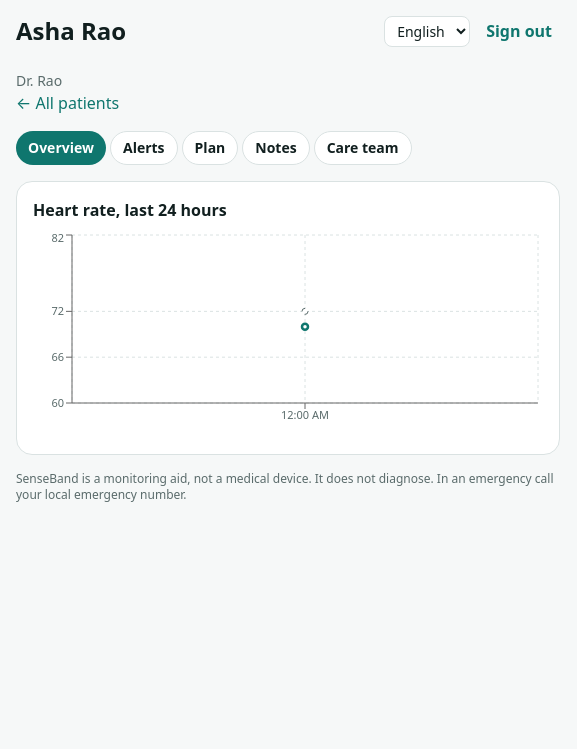
Scenario: cloud screens › doctor edits the plan: blocked above the stored limit, saved as the next version otherwise
Click the tab "Plan": click(210, 148) [182,131,238,165]
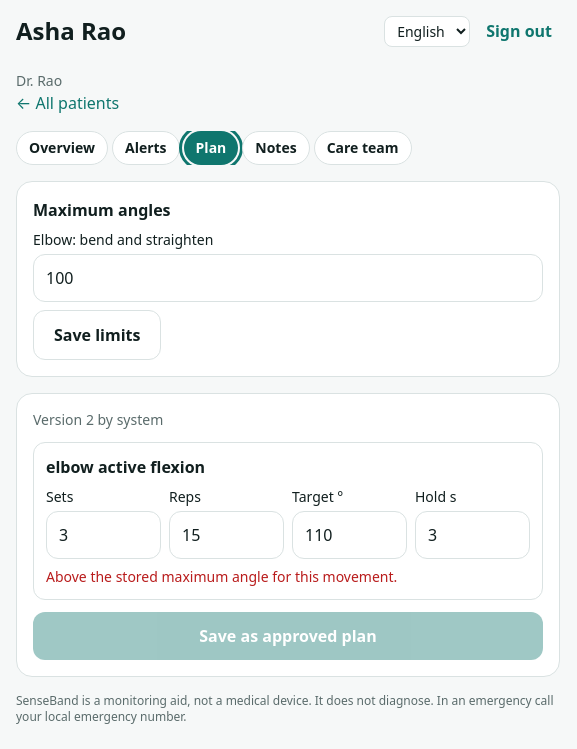
Expected: the field labelled "Target °" holds "110"
Expected: the text "Above the stored maximum angle for this movement." is shown, [46,567,397,586]
Expected: the button "Save as approved plan" is disabled, [33,612,543,660]
Replace the text in the field labelled "Target °" with "95": (350, 535) [292,511,407,559]
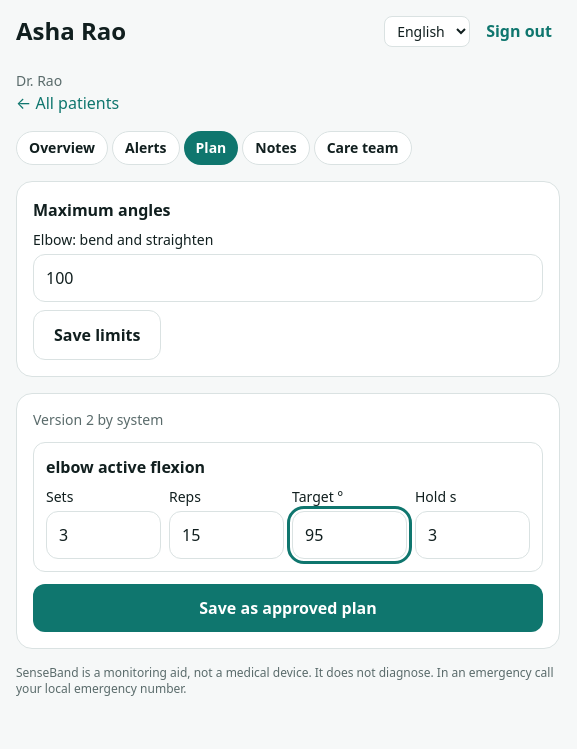
Expected: the button "Save as approved plan" is enabled
Click the button "Save as approved plan": click(288, 608) [33,584,543,632]
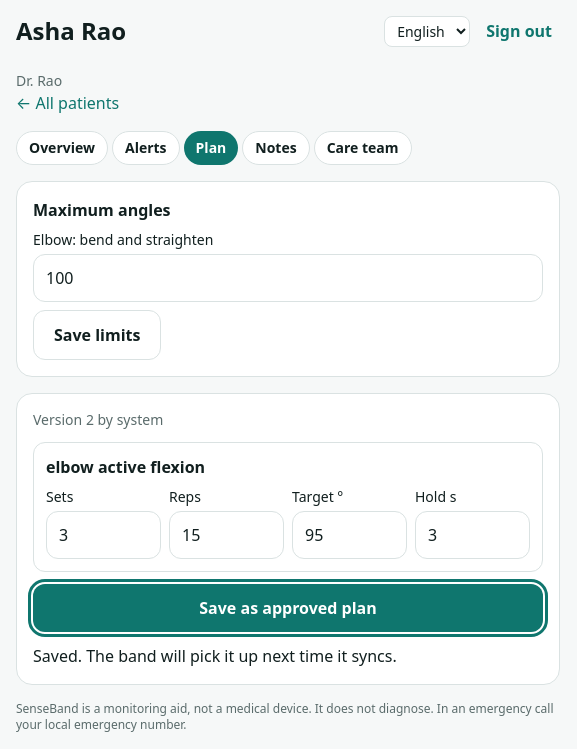
Expected: the text "Saved. The band will pick it up next time it syncs." is shown, [33,645,397,667]
